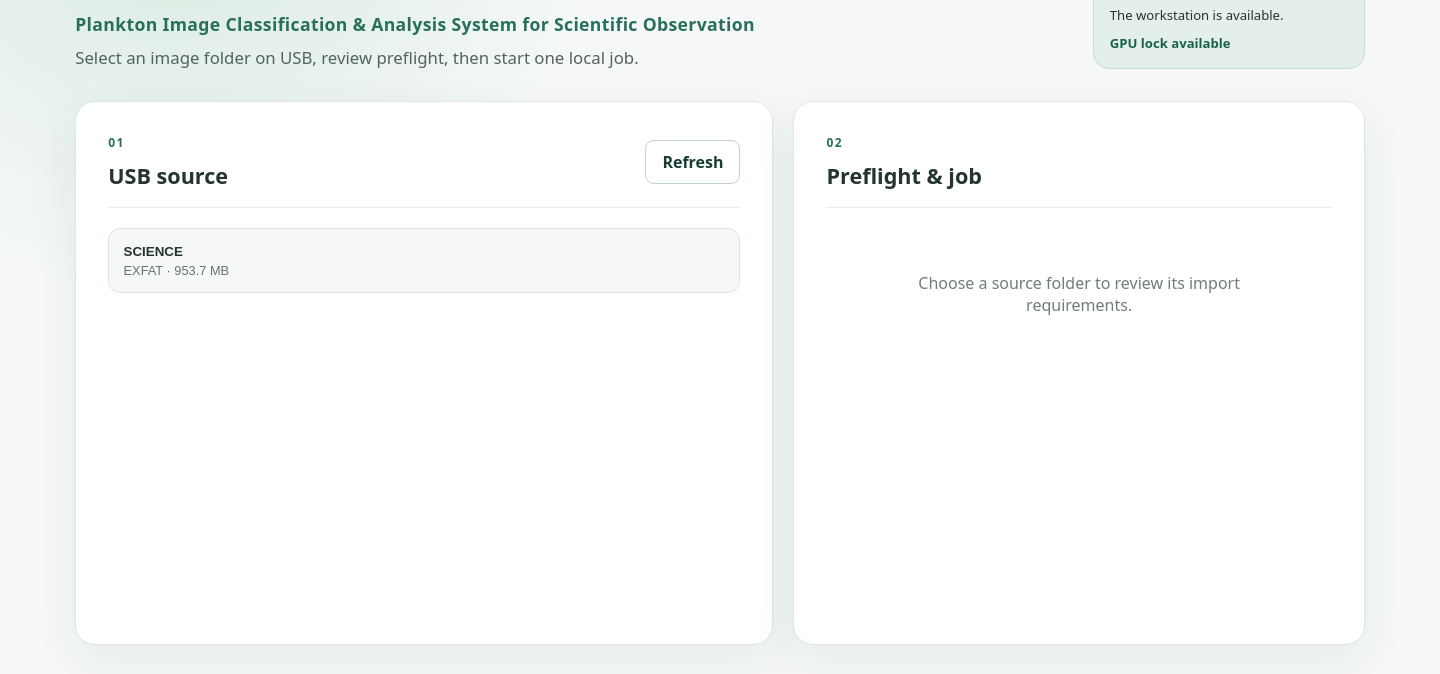
initial refusal native mount is busy (503) preserves uncertainty where required
(page scrolled)
Click the button "SCIENCE EXFAT · 953.7 MB" at (153, 251), box [108, 228, 740, 293]
(page scrolled)
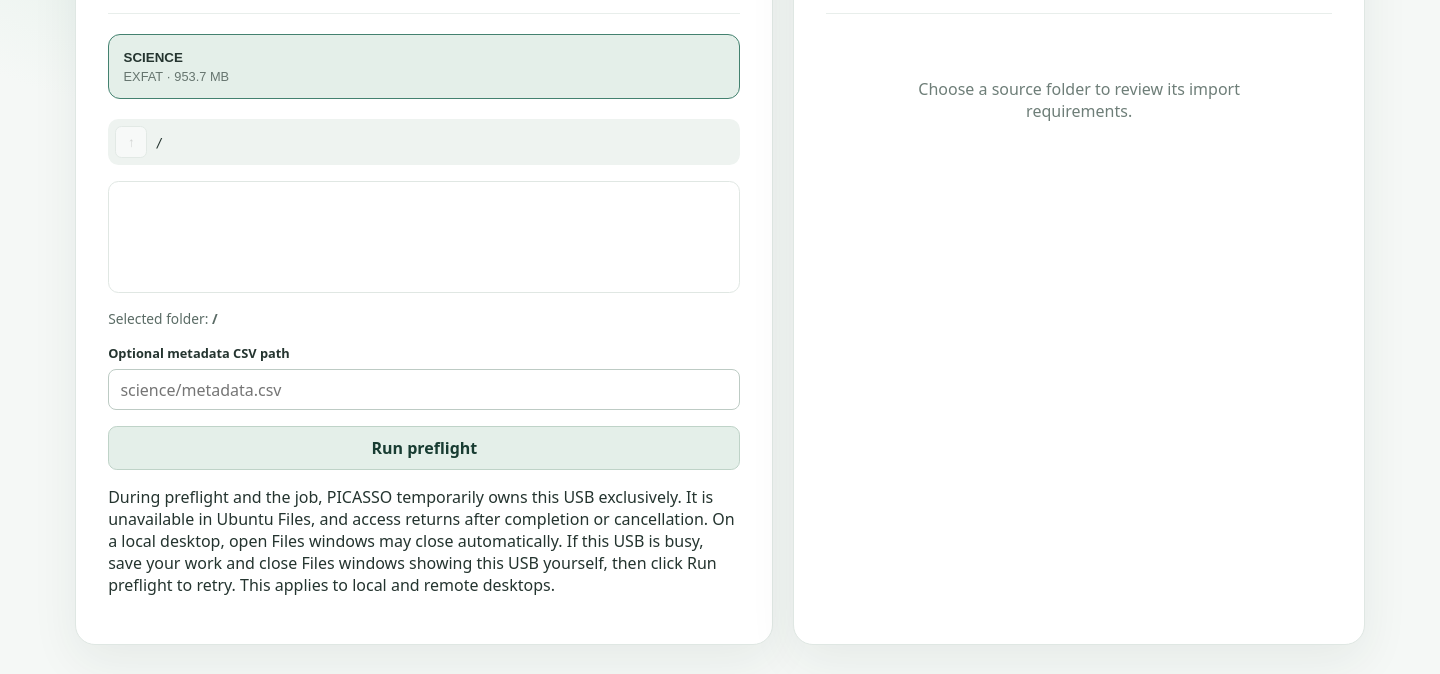
Click the button "Run preflight" at (424, 448), box [108, 426, 740, 470]
(page scrolled)
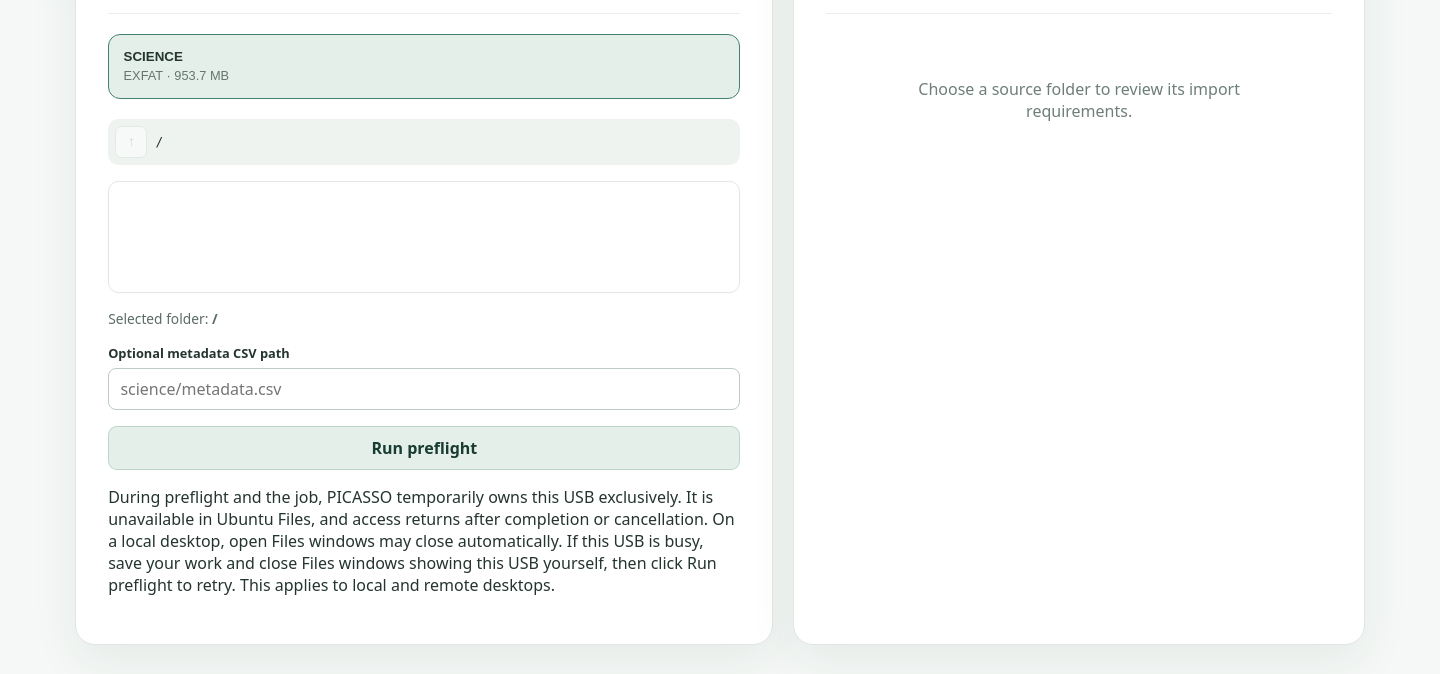
Expected: the button "Confirm and start" is not shown
Click the button "Run preflight" at (424, 448), box [108, 426, 740, 470]
(page scrolled)
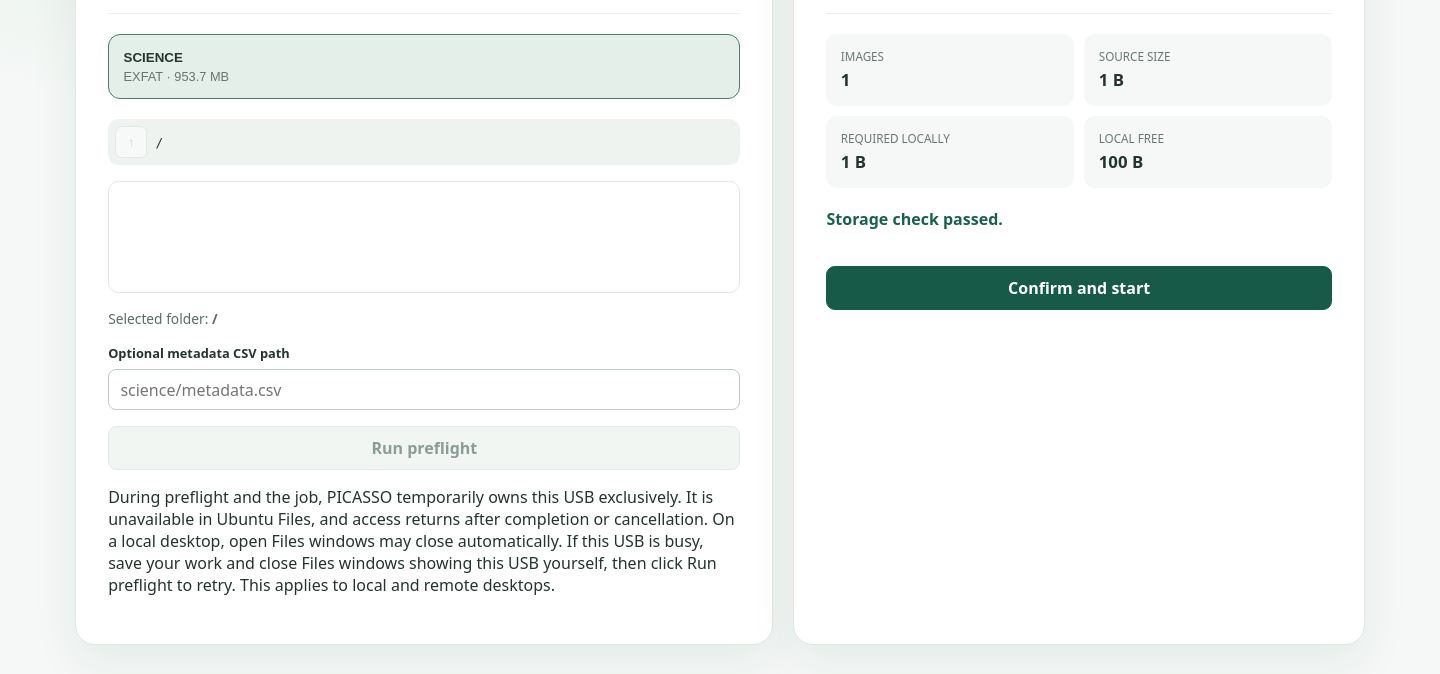
Now the button "Confirm and start" is shown, box [826, 266, 1332, 310]
